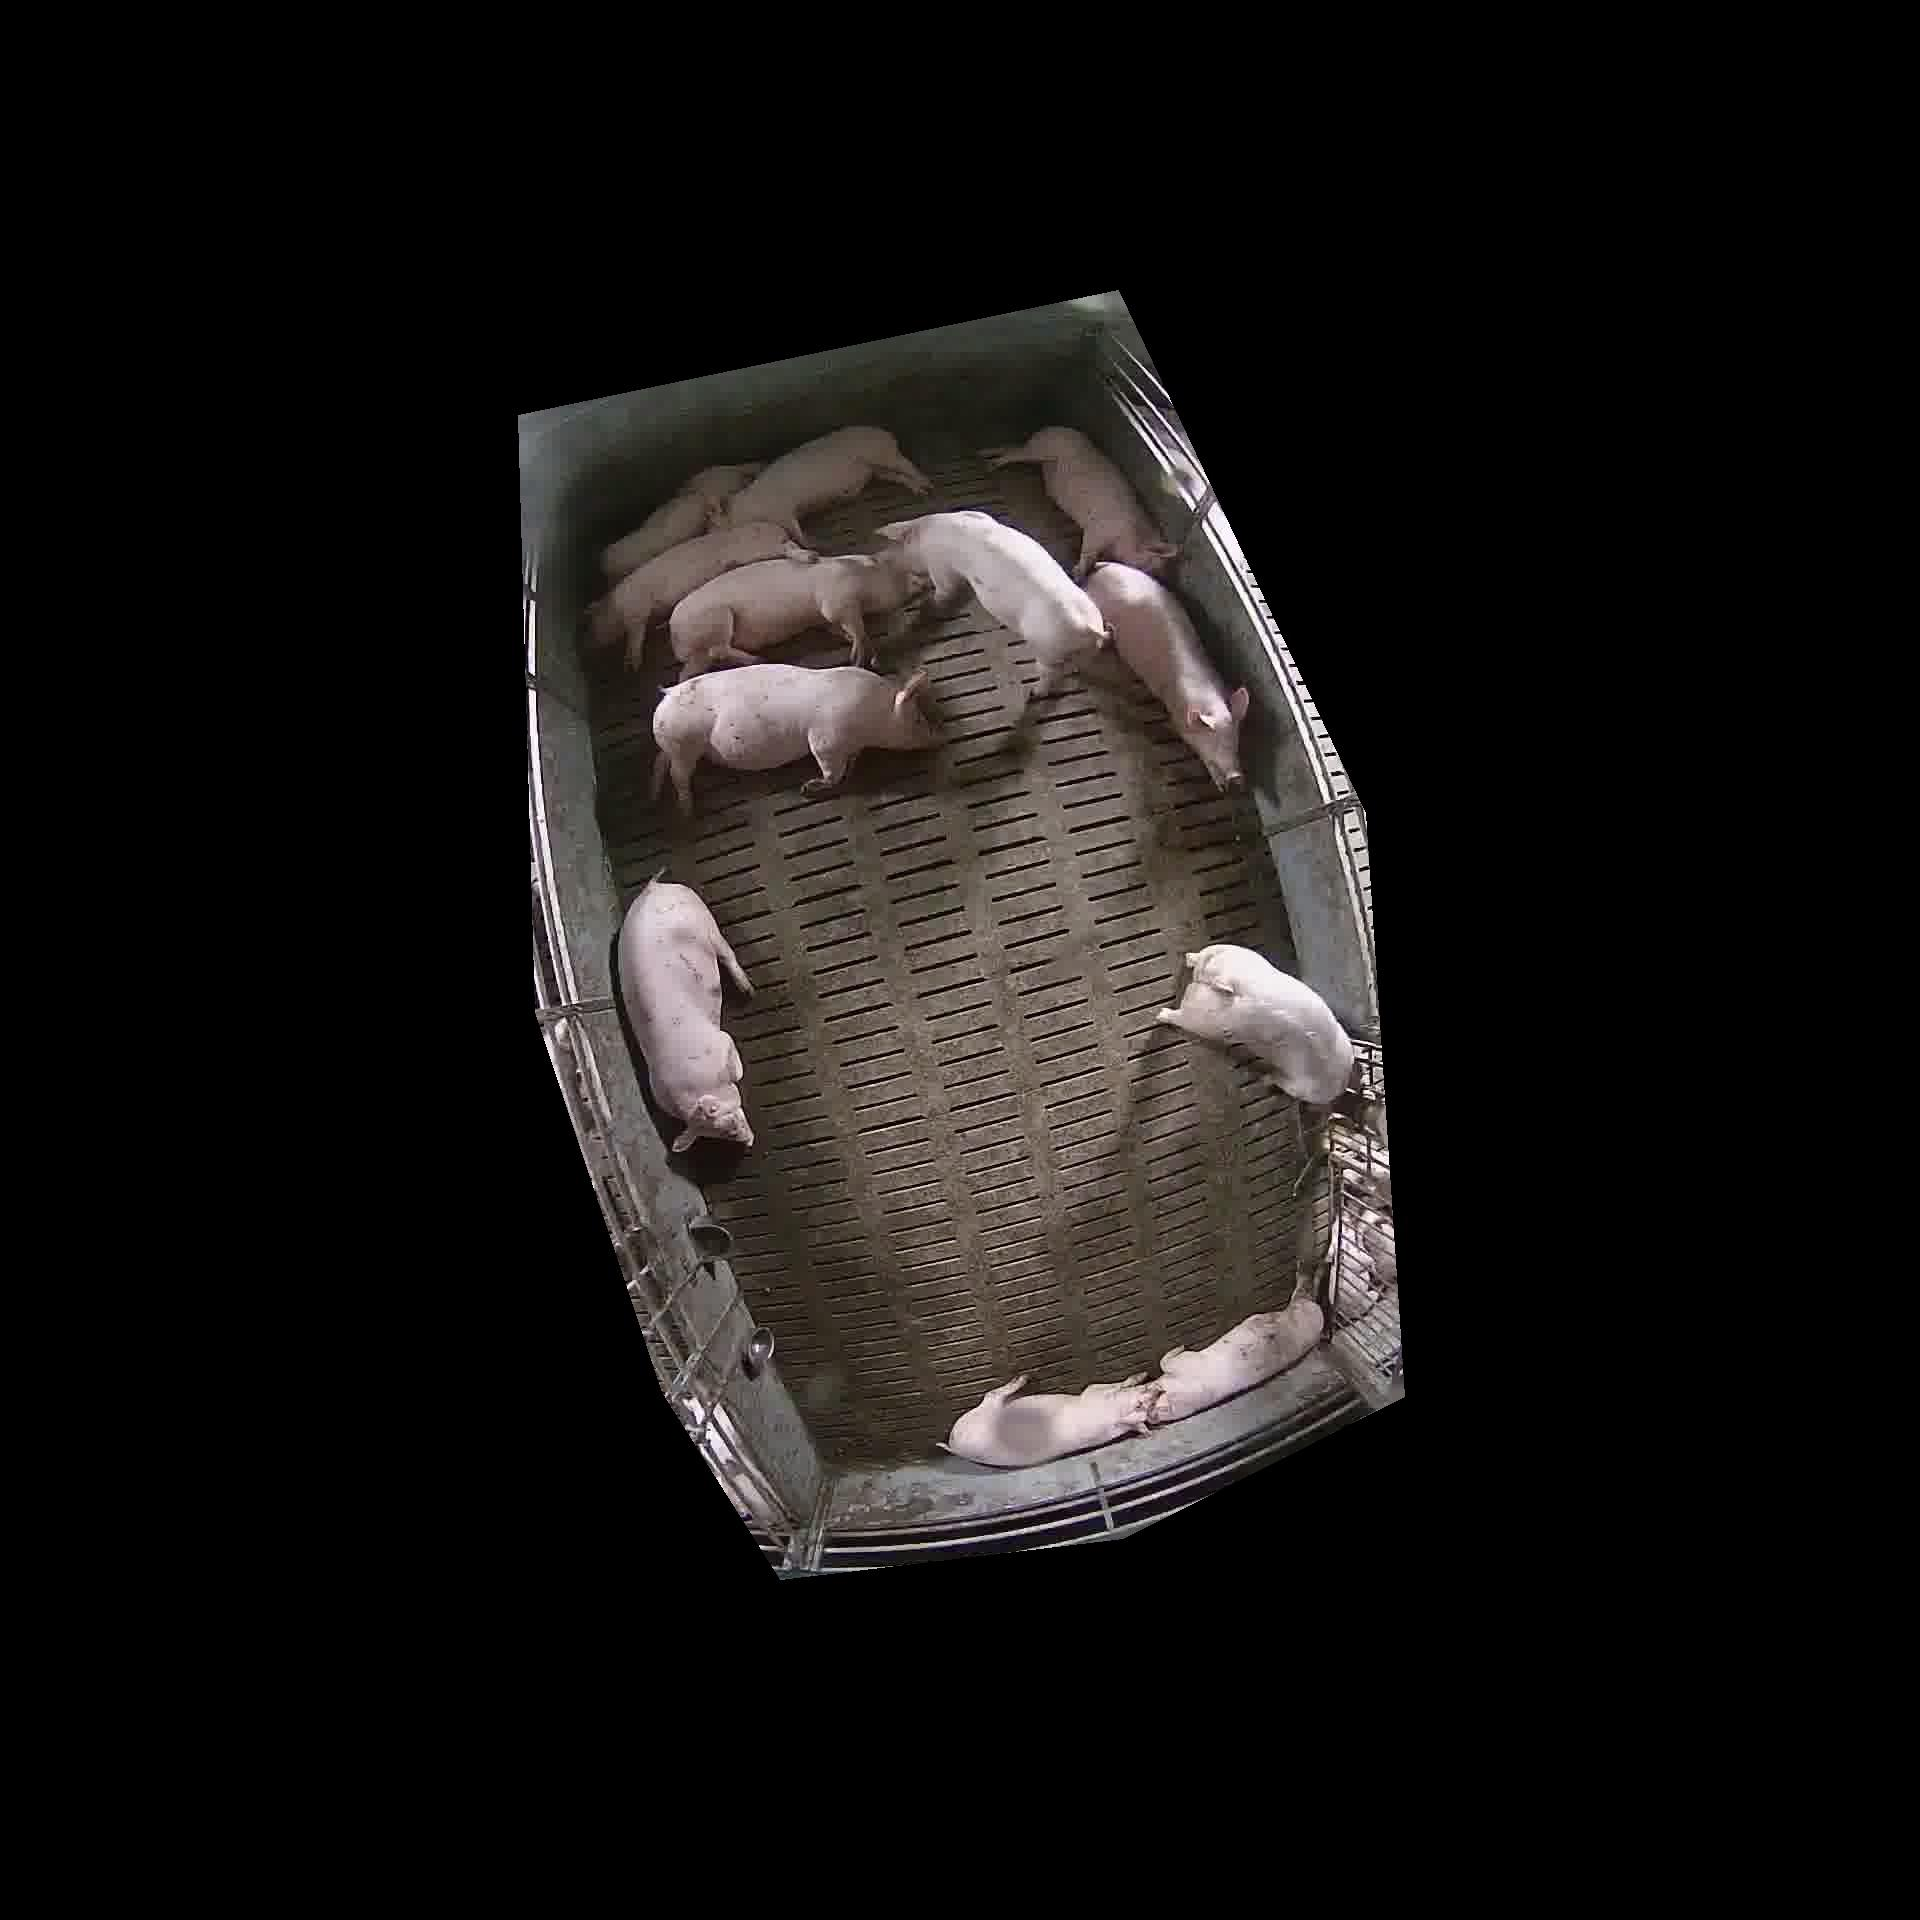pig: (652, 665, 942, 812), (881, 508, 1102, 693), (617, 879, 753, 1150), (1087, 563, 1247, 784), (587, 522, 809, 668), (668, 556, 927, 679), (1157, 944, 1354, 1104), (983, 425, 1173, 573), (726, 425, 930, 543), (1143, 1298, 1322, 1421), (600, 462, 761, 584), (942, 1377, 1148, 1463), (886, 550, 891, 554)
